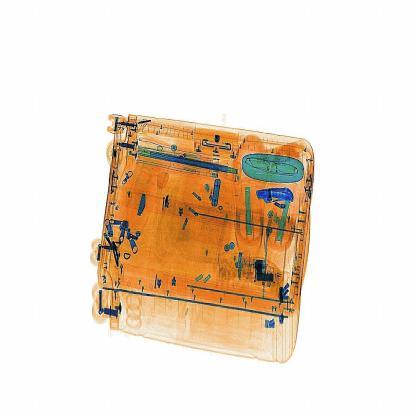knife: (258, 183, 295, 209)
